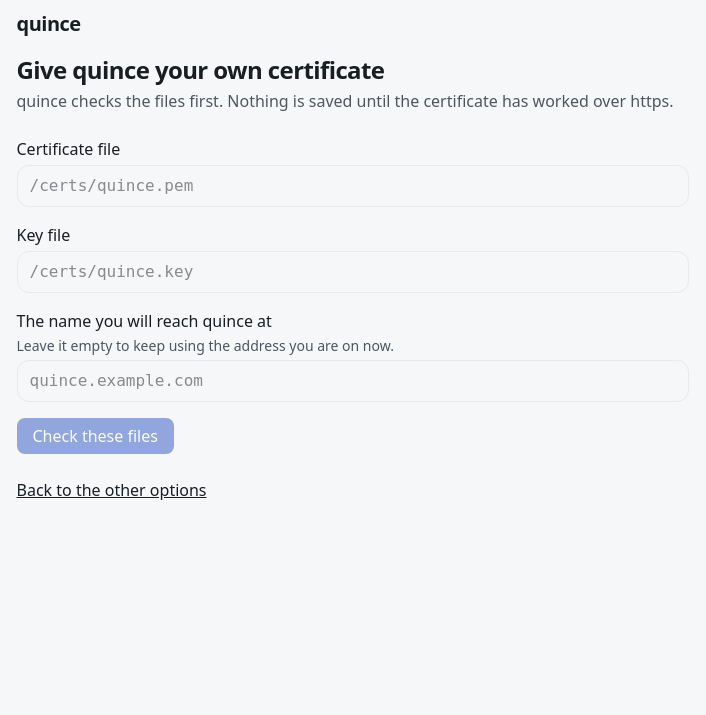
Test: the certificate step › lists the names a certificate does cover
The width and height of the screenshot is (706, 715).
Type "/tls/fullchain.pem" into the field labelled "Certificate file".
click(352, 186); type("/tls/fullchain.pem")  # box [16,165,688,207]
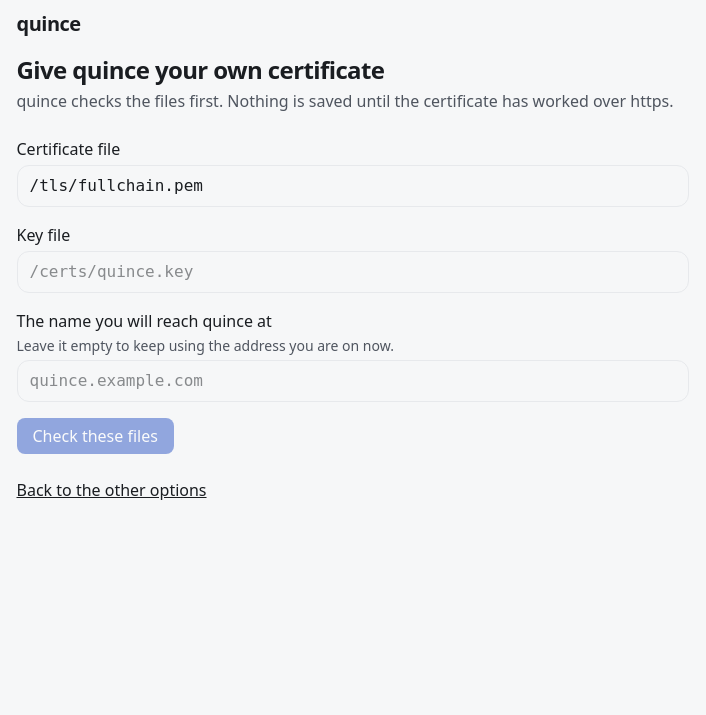
Type "/tls/privkey.pem" into the field labelled "Key file".
click(352, 272); type("/tls/privkey.pem")  # box [16,251,688,293]
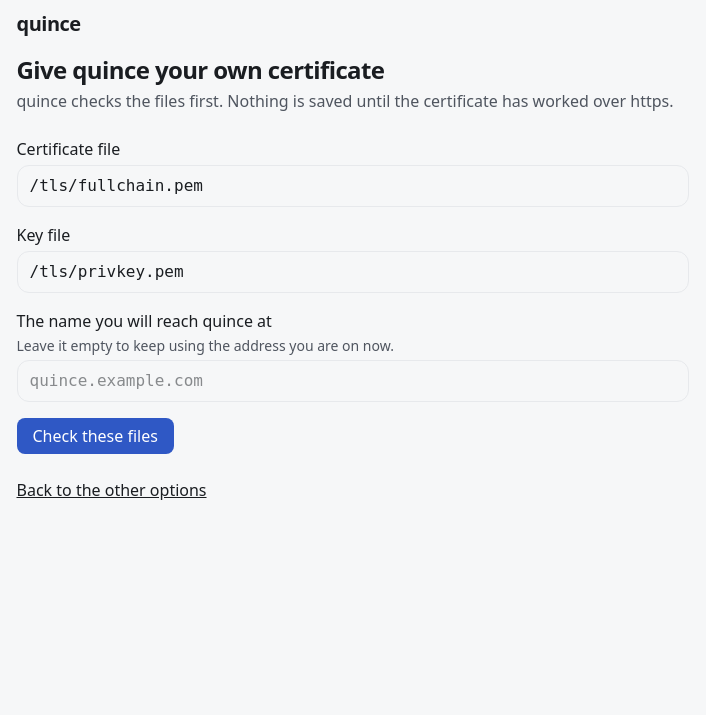
Click the button "Check these files".
click(95, 436)  # box [16,418,174,454]
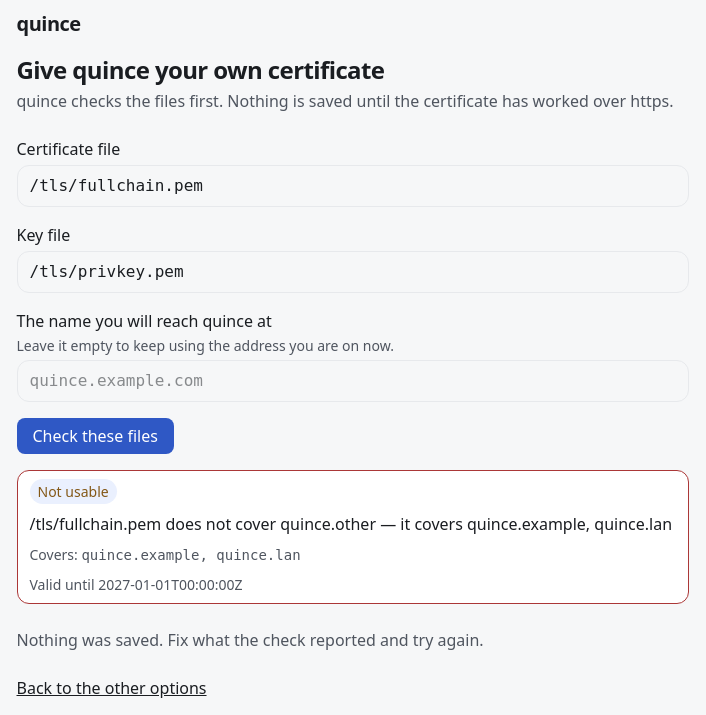
Check: the text "quince.example, quince.lan" is shown 2 times, box [30,512,676,536]; [81,547,301,563]
